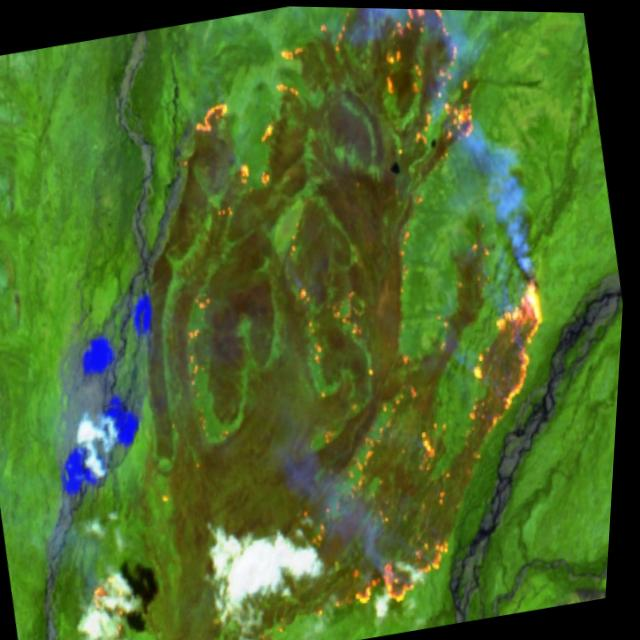fire: (0, 0, 626, 640)
